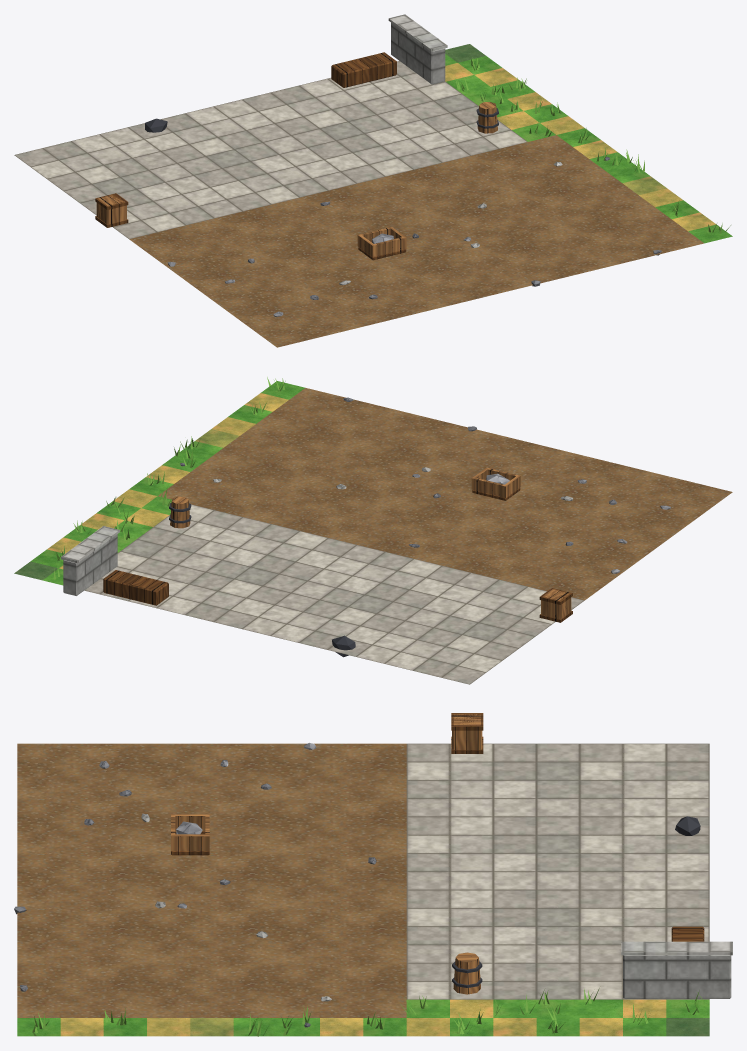
The model's file is chunk_7_10.glb.
The picture shows the model from 3 angles, top to bottom: view 1: azimuth 30°, elevation 25°; view 2: azimuth 150°, elevation 25°; view 3: azimuth 270°, elevation 25°; orthographic projection. The views are drawn at different scales.
Visible parts, largest first — view 1: chunk_7_10; view 2: chunk_7_10; view 3: chunk_7_10.
Boxes of the visible parts, box(x1,y1,x2,y2) form: chunk_7_10: box(14, 14, 732, 347); chunk_7_10: box(14, 377, 732, 684); chunk_7_10: box(14, 713, 732, 1036).
Bounding box in the file's own units: 16.34 × 1.6 × 16.62.
15 materials, 13 textured.
